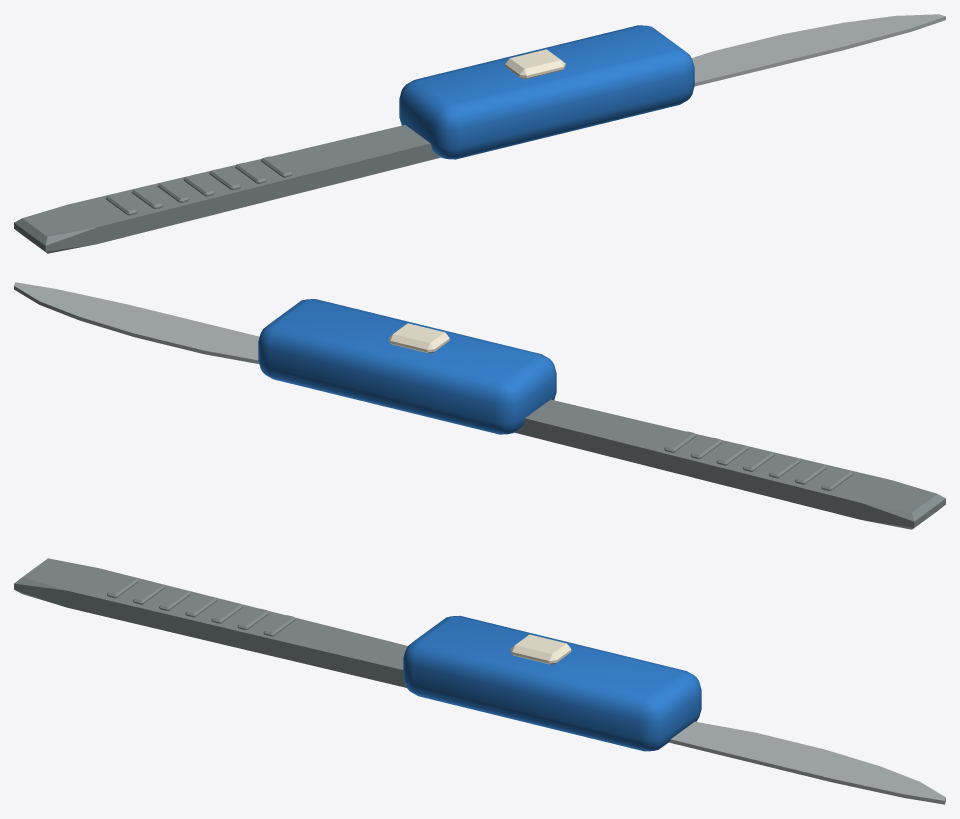
The model's file is sc-scalpel.glb.
3 views of the same model, one above another, from view 1: azimuth 30°, elevation 25°; view 2: azimuth 150°, elevation 25°; view 3: azimuth 330°, elevation 25° (orthographic).
Parts seen in each view (by area): view 1: sc-scalpel; view 2: sc-scalpel; view 3: sc-scalpel.
Boxes of the visible parts, box(x1,y1,x2,y2) form: sc-scalpel: box(14, 14, 945, 253); sc-scalpel: box(14, 282, 945, 529); sc-scalpel: box(14, 558, 945, 804).
Size of the model in its own units: 0.1585 by 0.0105 by 0.0155.
